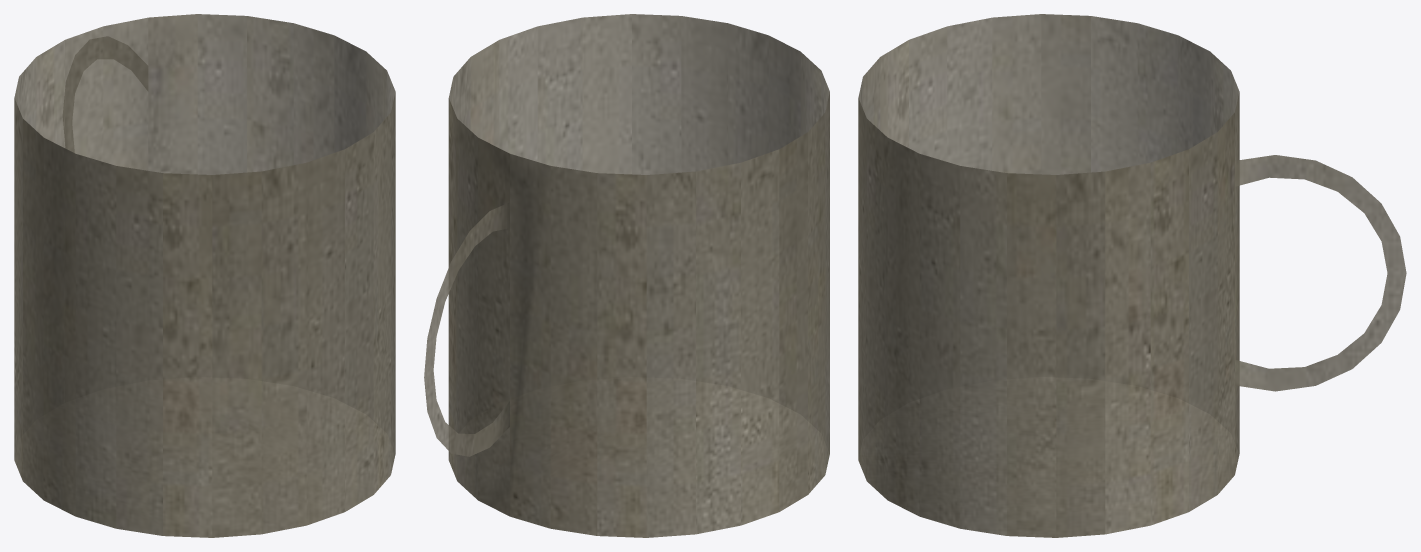
The picture shows the model from 3 angles, left to right: view 1: azimuth 30°, elevation 25°; view 2: azimuth 150°, elevation 25°; view 3: azimuth 270°, elevation 25°; orthographic projection.
Visible parts, largest first — view 1: mesh1_mesh1-geometry; view 2: mesh1_mesh1-geometry; view 3: mesh1_mesh1-geometry.
Part boxes in pixels (x1,y1,x2,y2): mesh1_mesh1-geometry: [14, 14, 395, 537]; mesh1_mesh1-geometry: [424, 14, 829, 537]; mesh1_mesh1-geometry: [858, 14, 1406, 537].
Size of the model in its own units: 0.4895 by 0.5144 by 0.7041.
